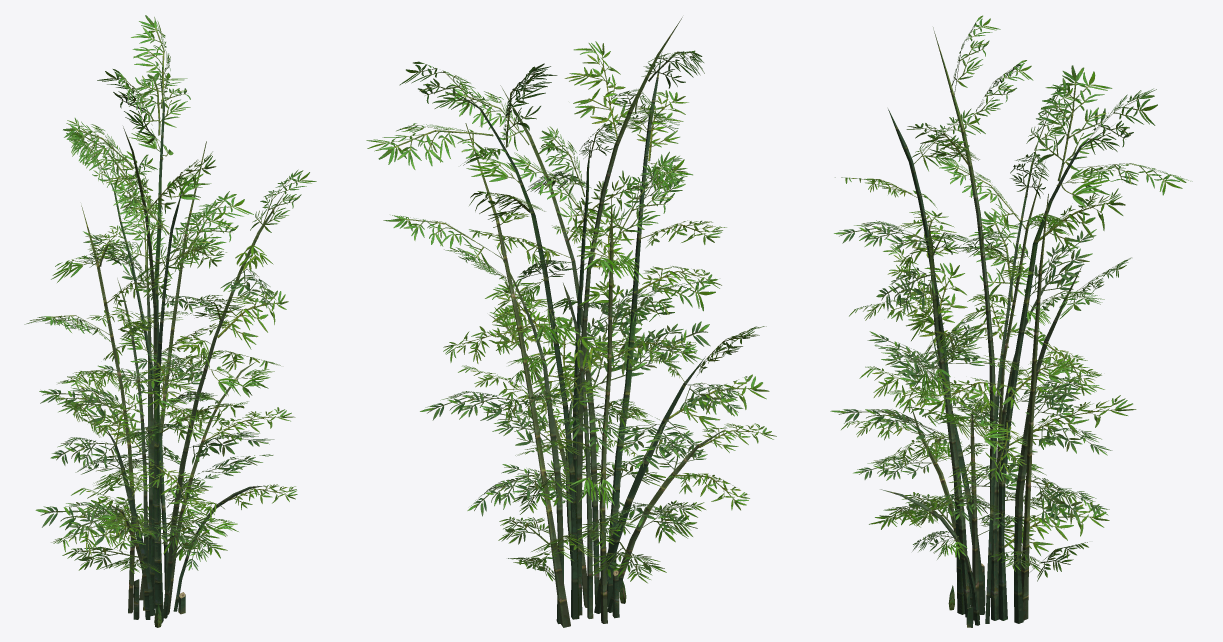
File: Plant_3002_zhiwu01_zhuzi.FBX
3 renders of one model, left to right at view 1: azimuth 30°, elevation 25°; view 2: azimuth 150°, elevation 25°; view 3: azimuth 270°, elevation 25°, orthographic. The views are drawn at different scales.
Visible parts, largest first — view 1: Plant_3002_zhiwu01_zhuzi; view 2: Plant_3002_zhiwu01_zhuzi; view 3: Plant_3002_zhiwu01_zhuzi.
Boxes of the visible parts, x1,y1,x2,y2 form: Plant_3002_zhiwu01_zhuzi: (24,15,316,627); Plant_3002_zhiwu01_zhuzi: (366,17,776,627); Plant_3002_zhiwu01_zhuzi: (830,15,1192,627).
Size of the model in its own units: 487 by 871 by 555.
